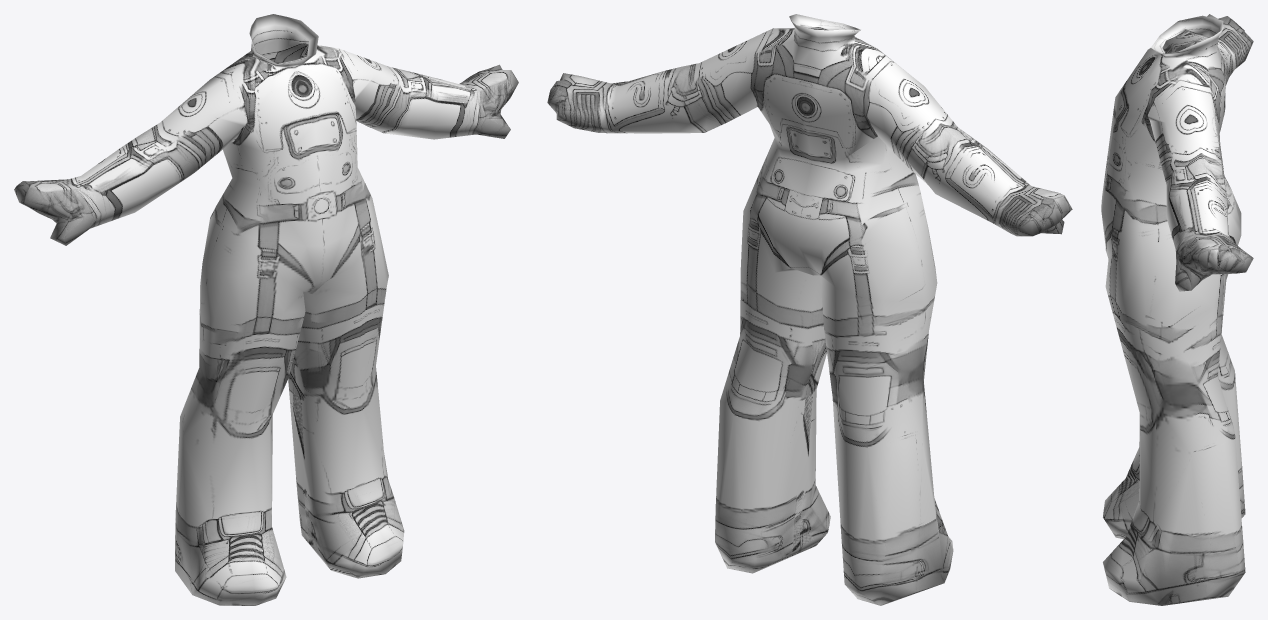
File: Vacsuit.glb
3 renders of one model, left to right at view 1: azimuth 30°, elevation 25°; view 2: azimuth 150°, elevation 25°; view 3: azimuth 270°, elevation 25°, orthographic. The views are drawn at different scales.
Visible parts, largest first — view 1: Vacsuit; view 2: Vacsuit; view 3: Vacsuit.
Boxes of the visible parts, left/top/right/bottom form: Vacsuit: left=14, top=14, right=518, bottom=605; Vacsuit: left=547, top=14, right=1072, bottom=605; Vacsuit: left=1101, top=14, right=1253, bottom=605.
Bounding box in the file's own units: 20.19 × 21.07 × 5.4.
1 material, 1 textured.
